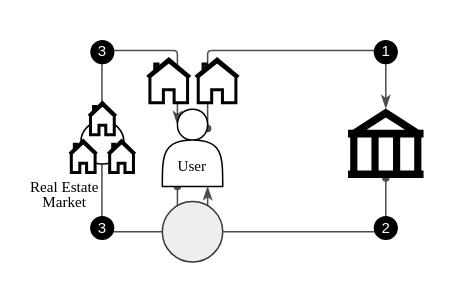
Image size: 450x288. Some labels were removed from this diagram. Each missing label, with the centre of its shape:
Bank: the point at 385,142
USD: the point at 192,231
